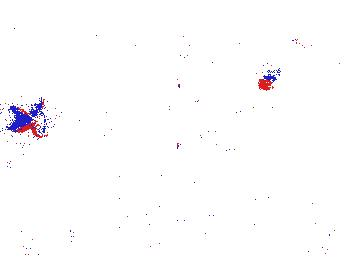X-ray fish: (18, 106, 47, 139)
red belly glassfish: (288, 35, 324, 57), (257, 66, 282, 92)
